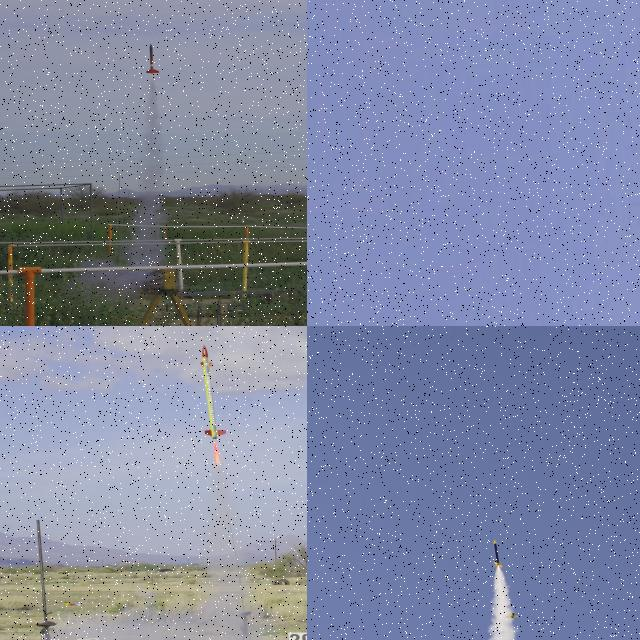Rocket: (200, 344, 227, 440), (145, 44, 160, 74), (493, 540, 503, 568)
